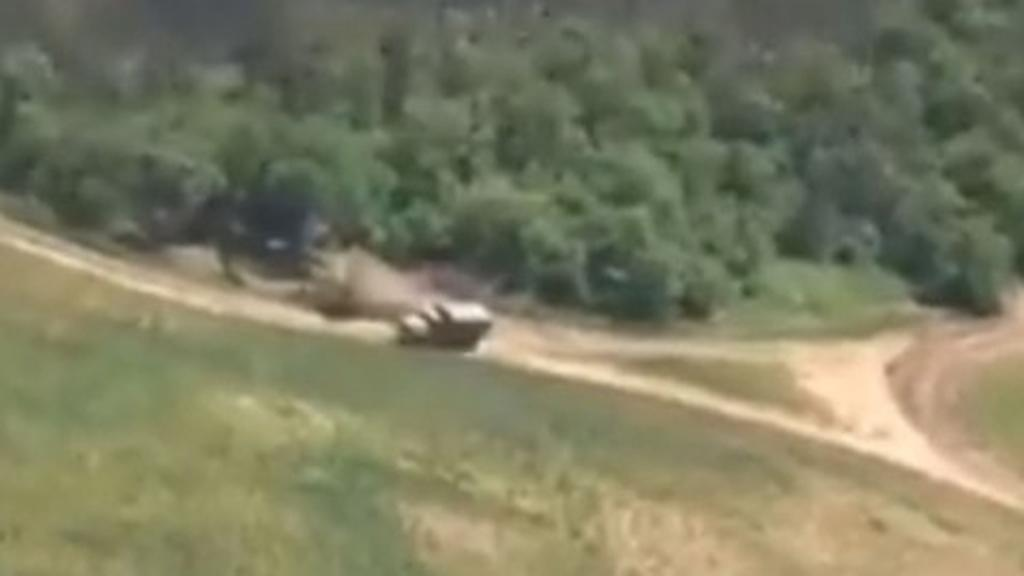TRUCK: (390, 296, 502, 352)
